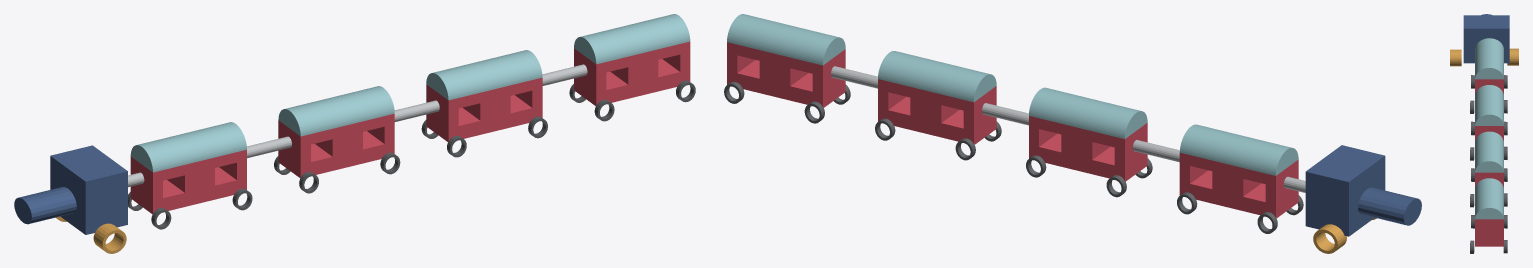
The model's file is train3d.glb.
3 renders of one model, left to right at view 1: azimuth 30°, elevation 25°; view 2: azimuth 150°, elevation 25°; view 3: azimuth 270°, elevation 25°, orthographic. The views are drawn at different scales.
Visible parts, largest first — view 1: Mesh_Mesh_head_geo.001_lambert2SG.001; view 2: Mesh_Mesh_head_geo.001_lambert2SG.001; view 3: Mesh_Mesh_head_geo.001_lambert2SG.001.
Part boxes in pixels (x1,y1,x2,y2): Mesh_Mesh_head_geo.001_lambert2SG.001: (14,14,695,253); Mesh_Mesh_head_geo.001_lambert2SG.001: (724,14,1421,253); Mesh_Mesh_head_geo.001_lambert2SG.001: (1450,14,1518,253).
Bounding box in the file's own units: 393 × 42 × 55.
